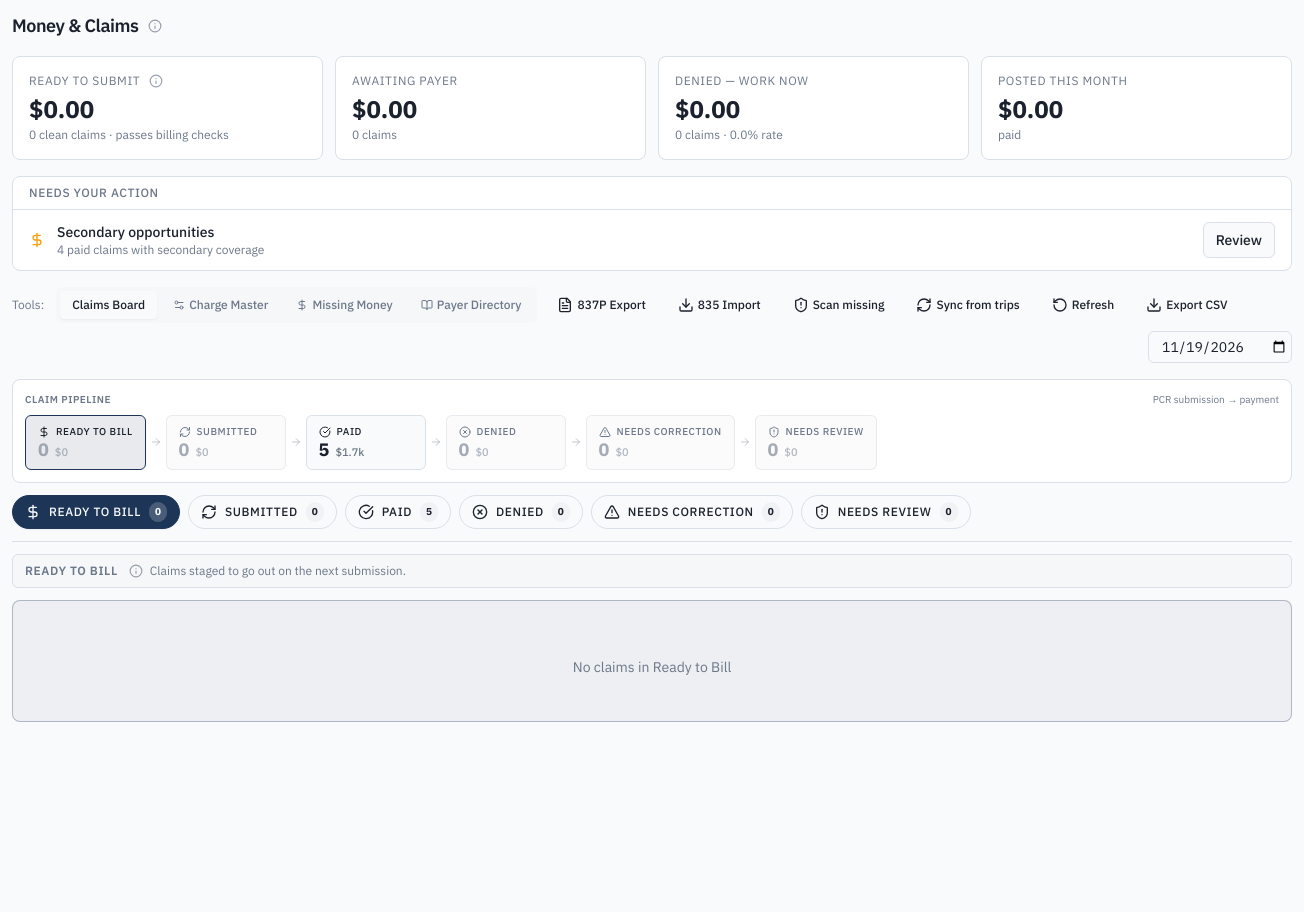
Scenario: secondary review and paid-card generation › Review from Denied switches to the four eligible Paid claims, including after other tab selections
Later steps or results of the test are not shown.
expect the button "Review" is shown: met, box top-left (1203, 222), bottom-right (1275, 258)
Click the button "Denied 0".
click(521, 512)  # box top-left (459, 494), bottom-right (583, 528)
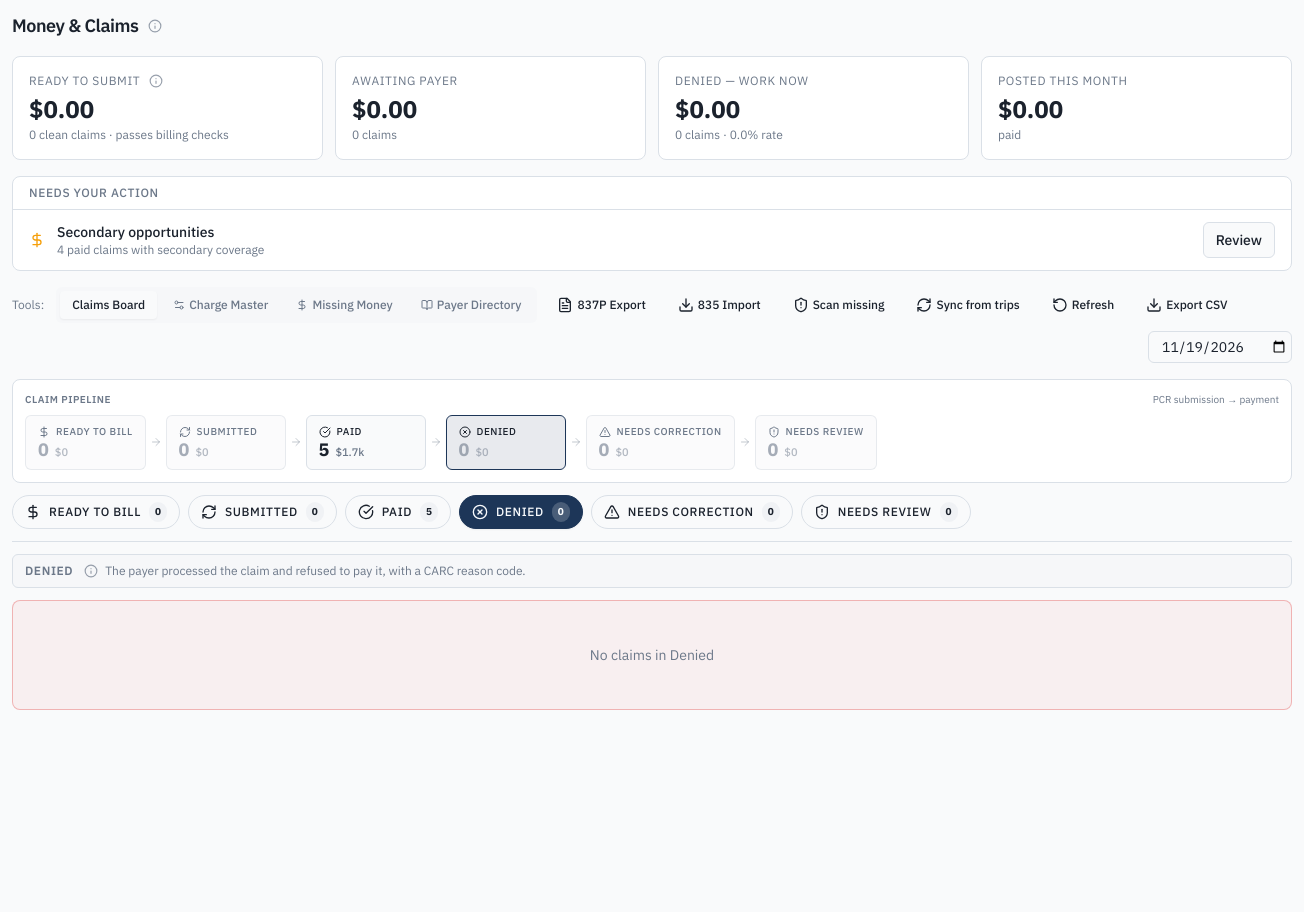
expect the text "No claims in Denied" is shown: met, box top-left (590, 646), bottom-right (714, 664)
Click the button "Review".
click(1239, 240)  # box top-left (1203, 222), bottom-right (1275, 258)
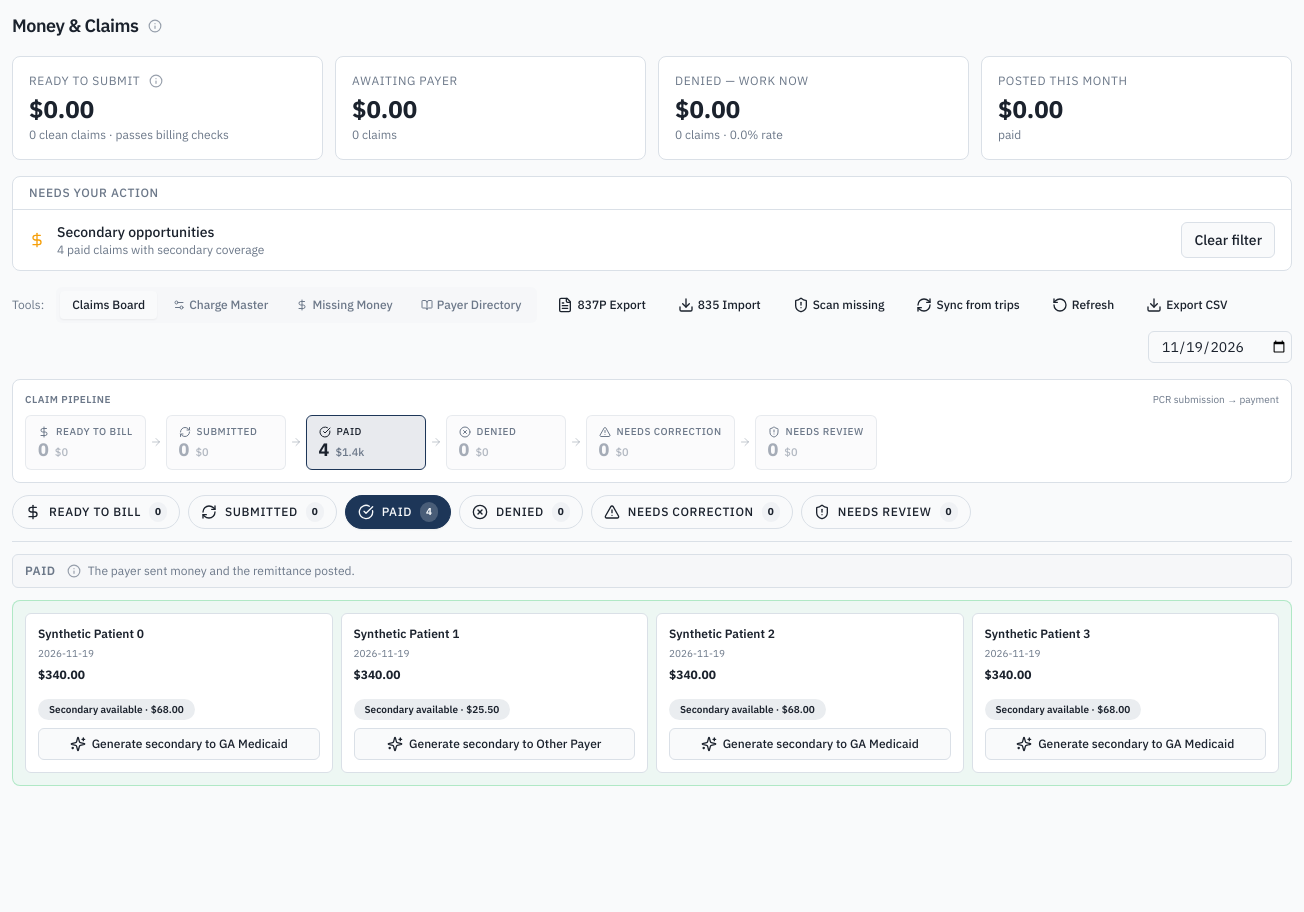
expect the text "No claims in Denied" is gone: met
